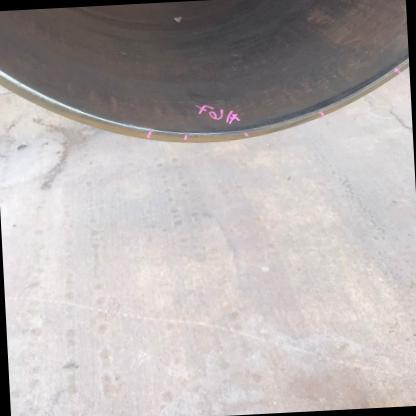Bevel: (275, 112, 302, 126), (186, 128, 200, 140)
